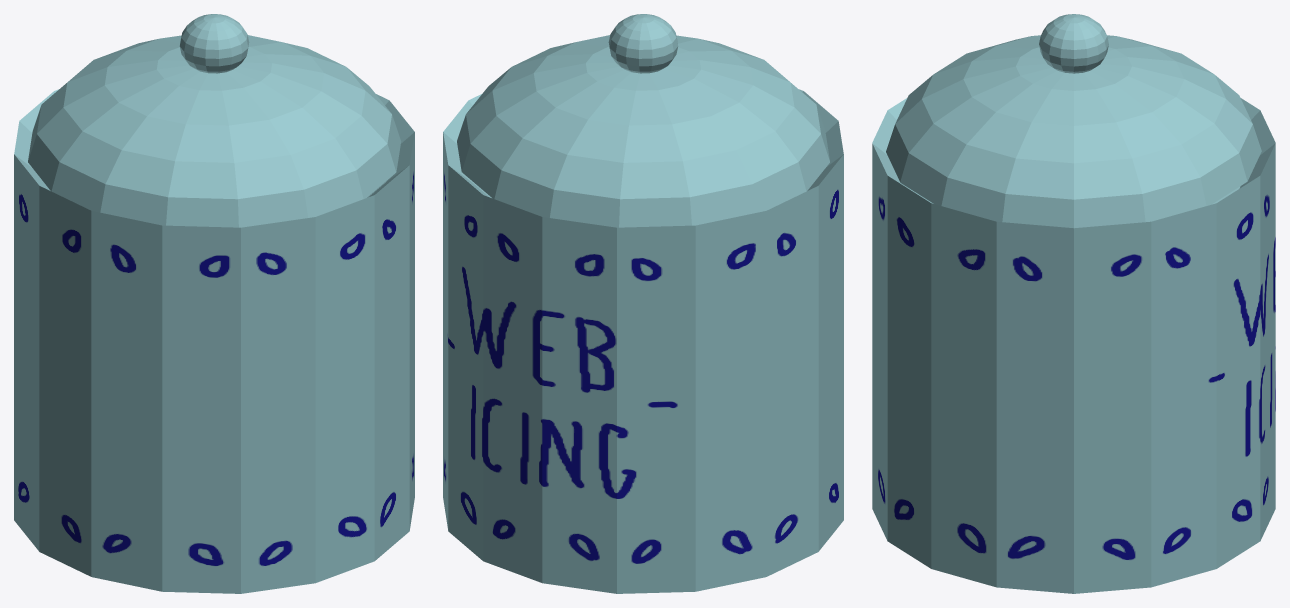
The model's file is Web Icing.fbx.
3 views of the same model, side by side, from view 1: azimuth 30°, elevation 25°; view 2: azimuth 150°, elevation 25°; view 3: azimuth 270°, elevation 25° (orthographic).
Parts seen in each view (by area): view 1: Web Icing Sugar; view 2: Web Icing Sugar; view 3: Web Icing Sugar.
Part boxes in pixels (bbox=[...]): Web Icing Sugar: bbox=[14, 14, 414, 593]; Web Icing Sugar: bbox=[443, 14, 843, 593]; Web Icing Sugar: bbox=[872, 14, 1275, 593].
Size of the model in its own units: 453 by 608 by 453.
